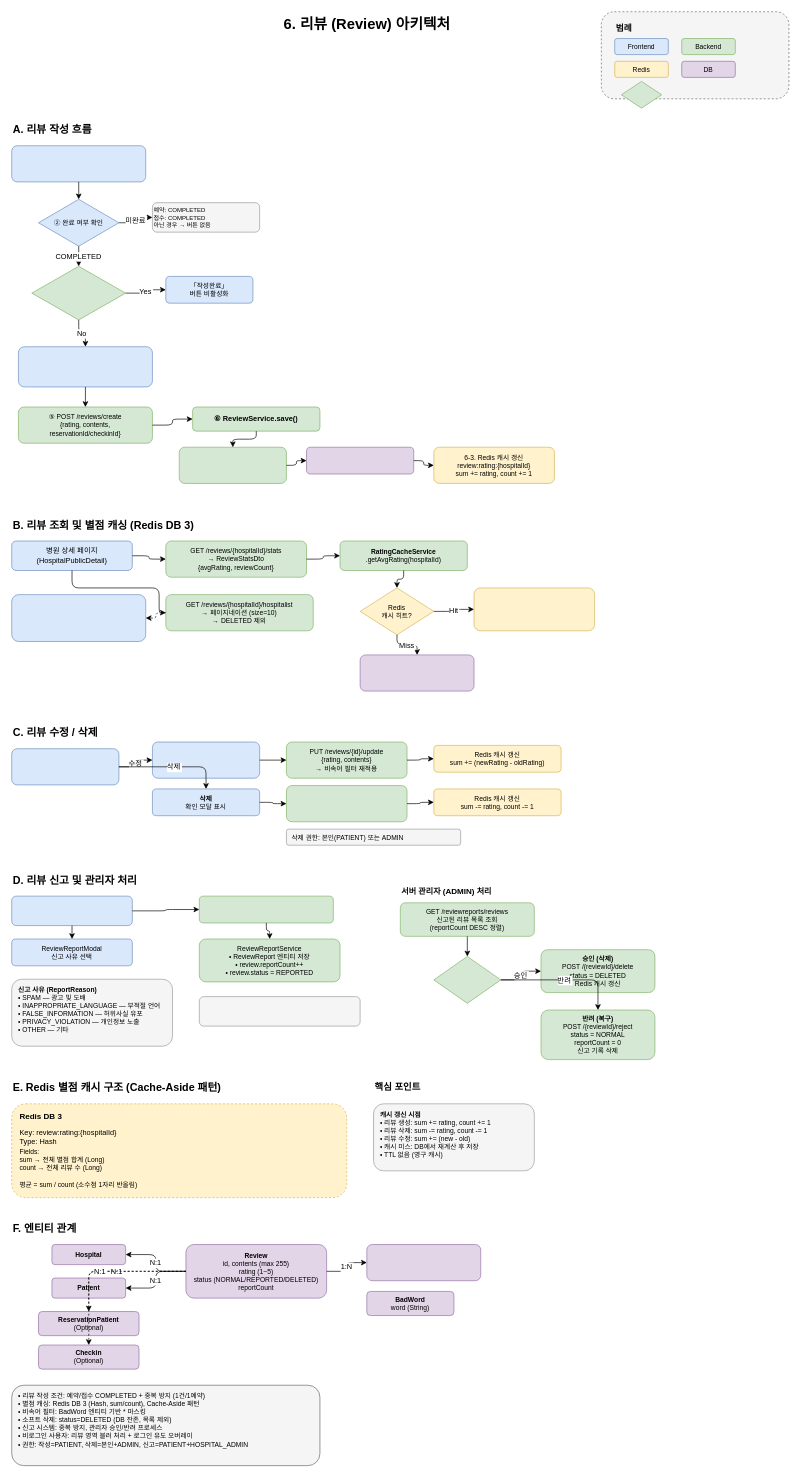
This 801x1477 diagram has some shape labels left out. The shapes that lost their labels are listed below. From the top down, each one's centre as x and y in pixels, then its label:
the point at 641,94: 분기
the point at 78,163: ① 환자 마이페이지 예약/접수 내역 조회 (ReservationPatientList)
the point at 78,293: ③ 기존 리뷰 존재? GET /reviews/exists/ reservation/{id}
the point at 85,366: ④ 「리뷰 작성」 모달 ⭐ 별점 1~5 선택 📝 내용 입력 (최대 500자)
the point at 232,465: 6-1. 비속어 필터링 BadWord 엔티티 조회 → * 마스킹 처리
the point at 360,460: 6-2. Review 엔티티 저장 status = NORMAL
the point at 78,618: HospitalDetailReviews • 평균 별점 + 분포 차트 • 리뷰 목록 (더보기 페이징) • 비로그인 → 블러 + 로그인 유도
the point at 534,609: Redis DB 3 key: review:rating:{id} hash: {sum, count} → avg = sum / count
the point at 416,672: DB에서 계산 AVG(rating), COUNT(*) → Redis 캐시 저장
the point at 65,766: 마이페이지 MyPageReviewList 「내가 쓴 리뷰」
the point at 206,759: 수정 인라인 편집 모드 별점 변경 + 내용 수정
the point at 346,803: DELETE /reviews/{id}/delete → 소프트 삭제 status = DELETED
the point at 71,910: 환자 또는 병원관리자 리뷰 신고 버튼 클릭
the point at 266,909: POST /reviewreports/{reviewId} {reason}
the point at 467,979: 관리자 판단
the point at 279,1011: 중복 신고 방지: 같은 사용자가 같은 리뷰 재신고 불가 본인 리뷰 신고 불가
the point at 423,1262: ReviewReport id, reason (Enum) reporter (Account FK)
